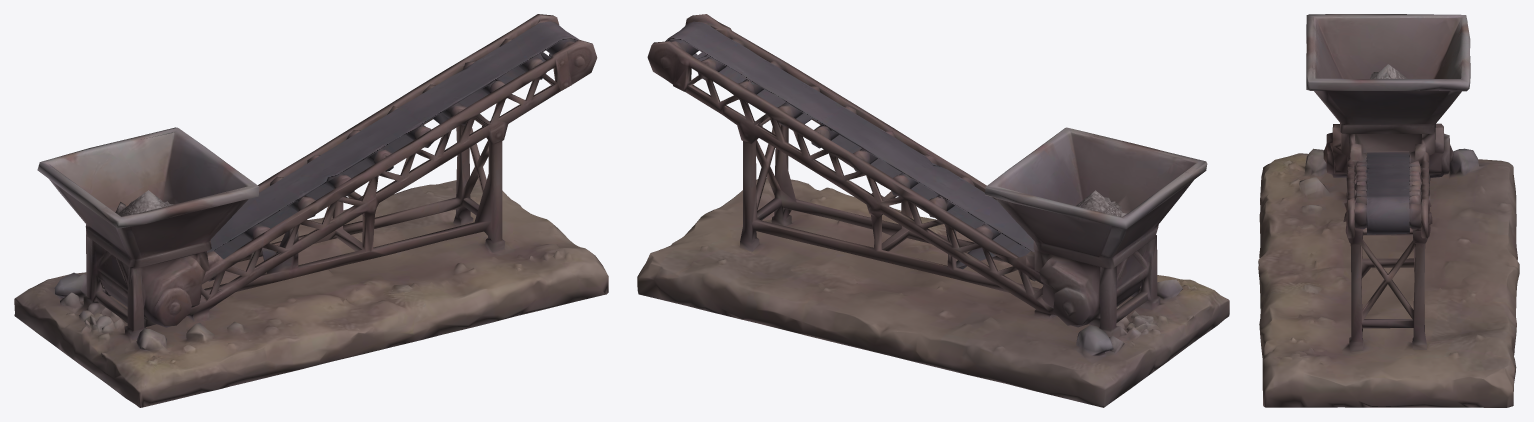
Rendered from mining_site_conveyor.glb.
3 views of the same model, side by side, from view 1: azimuth 30°, elevation 25°; view 2: azimuth 150°, elevation 25°; view 3: azimuth 270°, elevation 25° (orthographic).
Visible parts, largest first — view 1: tripo_node_bd95bda2-e311-4d1e-b3f7-9cb1ea18036b; view 2: tripo_node_bd95bda2-e311-4d1e-b3f7-9cb1ea18036b; view 3: tripo_node_bd95bda2-e311-4d1e-b3f7-9cb1ea18036b.
Part boxes in pixels (left/top/right/bottom): tripo_node_bd95bda2-e311-4d1e-b3f7-9cb1ea18036b: left=14, top=14, right=608, bottom=407; tripo_node_bd95bda2-e311-4d1e-b3f7-9cb1ea18036b: left=637, top=14, right=1229, bottom=407; tripo_node_bd95bda2-e311-4d1e-b3f7-9cb1ea18036b: left=1258, top=14, right=1519, bottom=407.
Size of the model in its own units: 1 by 0.4111 by 0.4555.
Materials: 1 (1 with a texture image).
